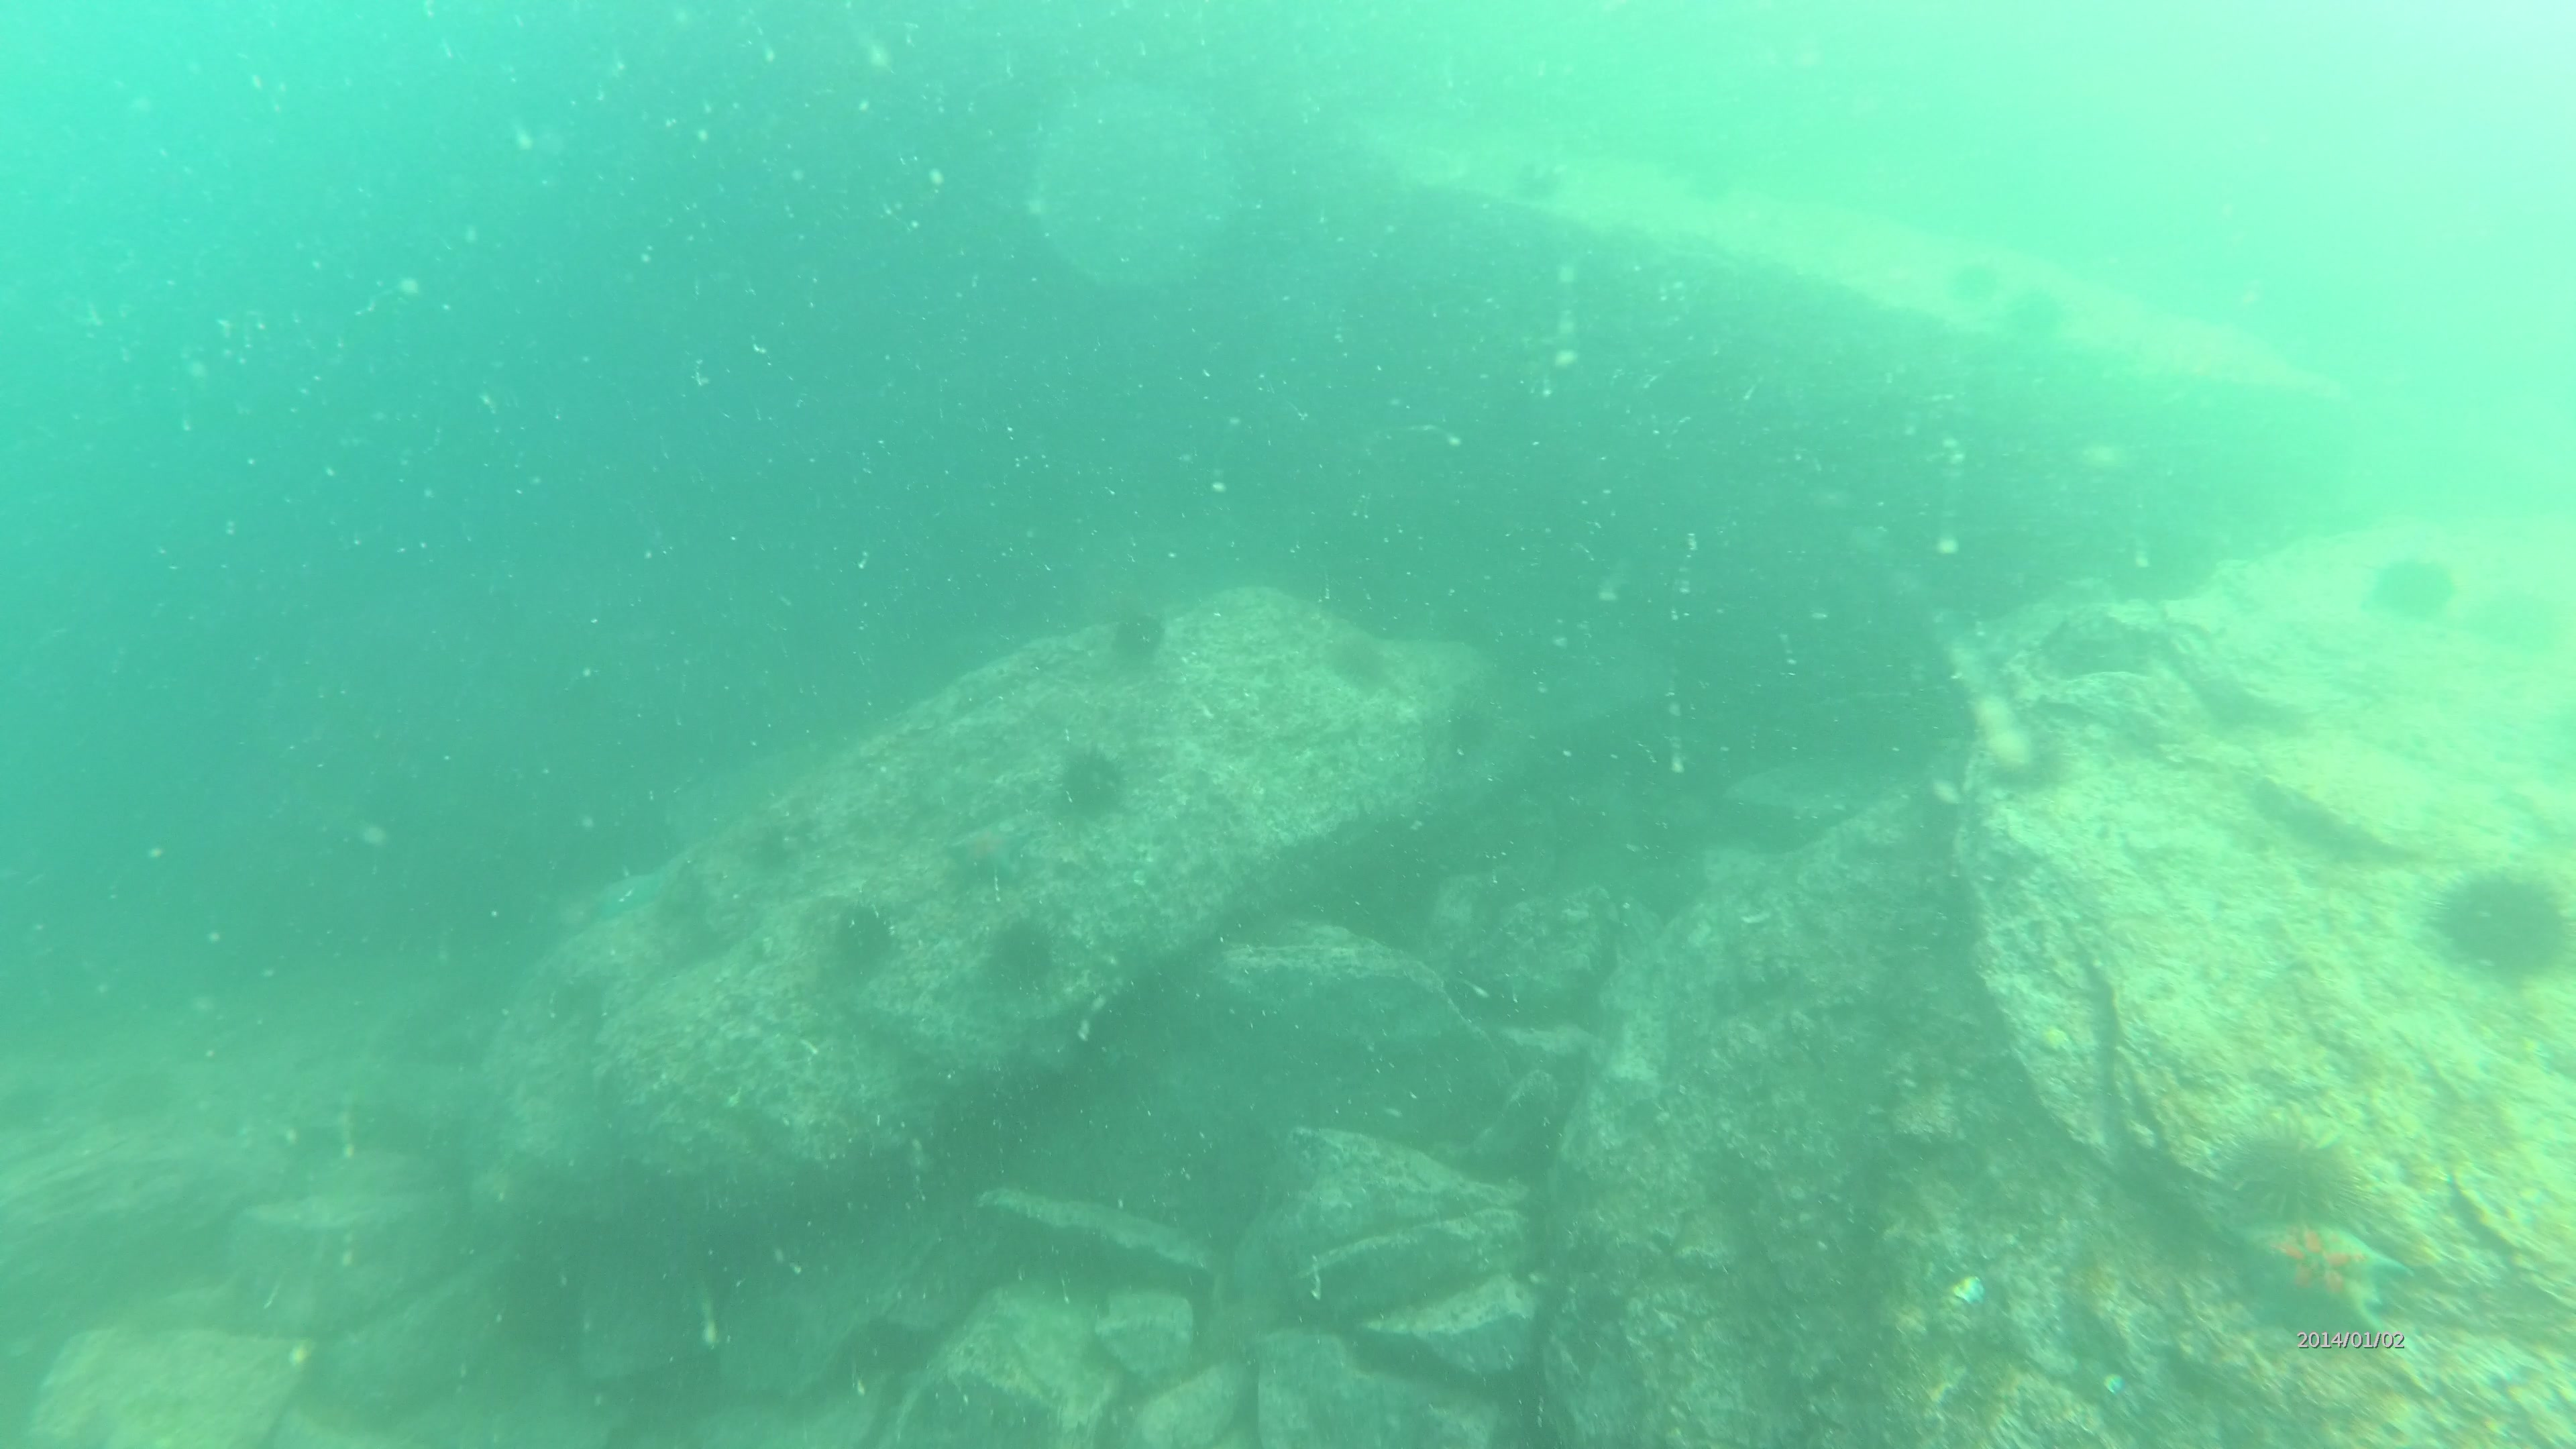echinus: (2442, 860, 2569, 966), (2224, 1132, 2371, 1215), (2369, 538, 2468, 621), (985, 920, 1060, 998), (1100, 596, 1177, 669), (1322, 628, 1392, 690), (1062, 747, 1122, 819), (833, 895, 893, 955)
starfish: (2210, 1217, 2406, 1343)
